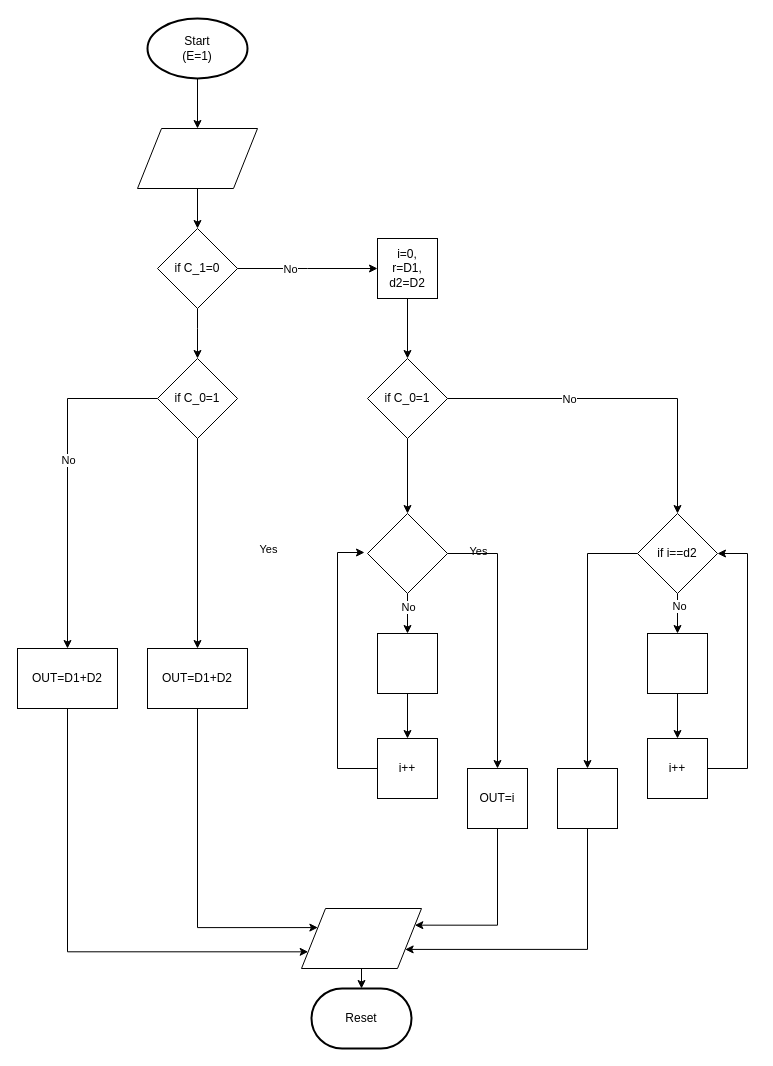
This 773x1066 diagram has some shape labels left out. Each missing label, with the centre of its shape:
"C, D1, D2" belongs at [197,158].
"if r<0" belongs at [407,553].
"OUT" belongs at [361,938].
"OUT=r" belongs at [587,798].
"r+=d2" belongs at [677,663].
"r-=d2" belongs at [407,663].
